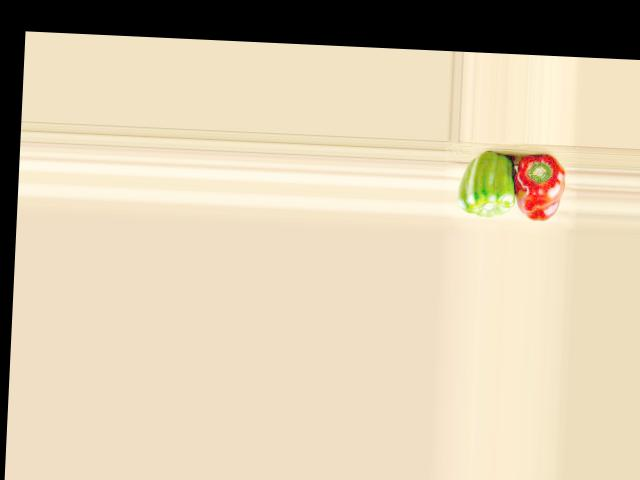bell_pepper: (510, 153, 567, 222)
